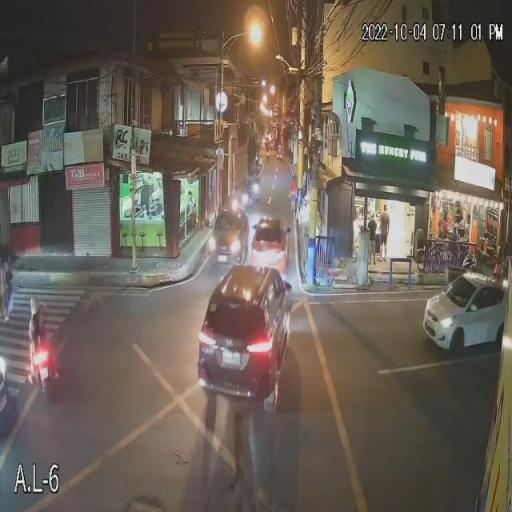helmet: (30, 295, 41, 319)
motorcycle: (30, 334, 54, 398)
rider: (27, 290, 44, 355)
